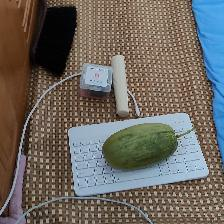gua: (103, 123, 177, 161)
